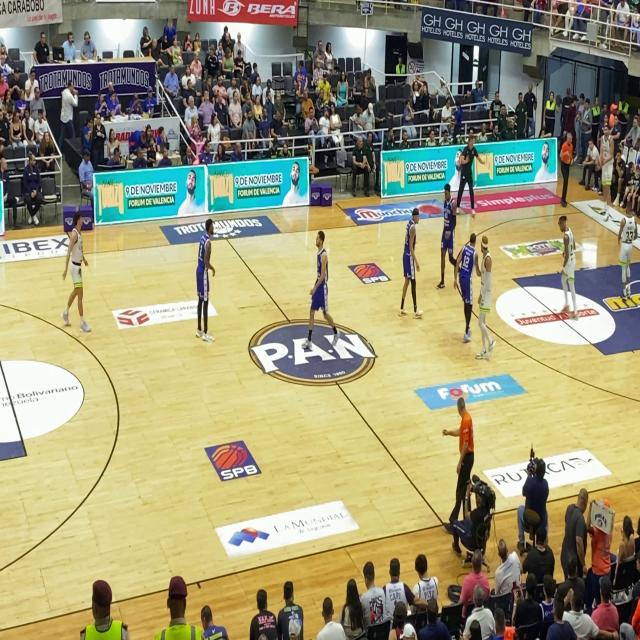referee: (450, 391, 480, 518)
team1: (472, 232, 498, 355), (614, 194, 640, 304)
team2: (306, 223, 336, 345), (187, 211, 216, 337), (452, 225, 479, 342), (396, 201, 422, 314), (437, 180, 460, 292)
